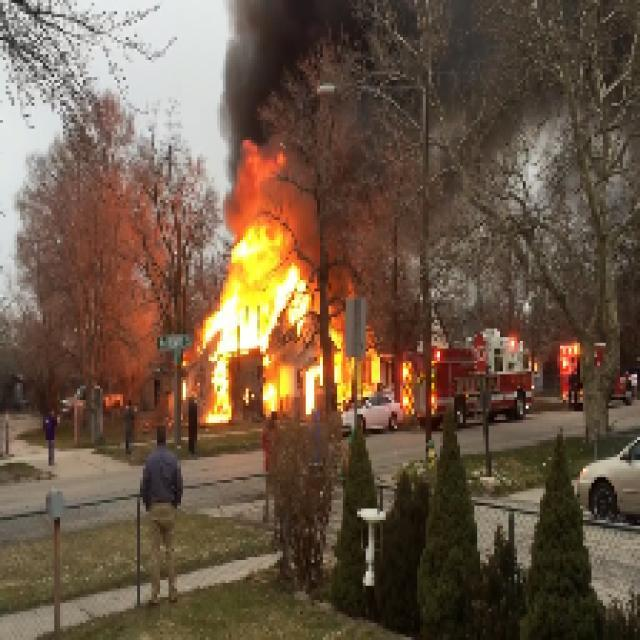Fire: (206, 208, 310, 374)
Smoke: (236, 14, 294, 86)
